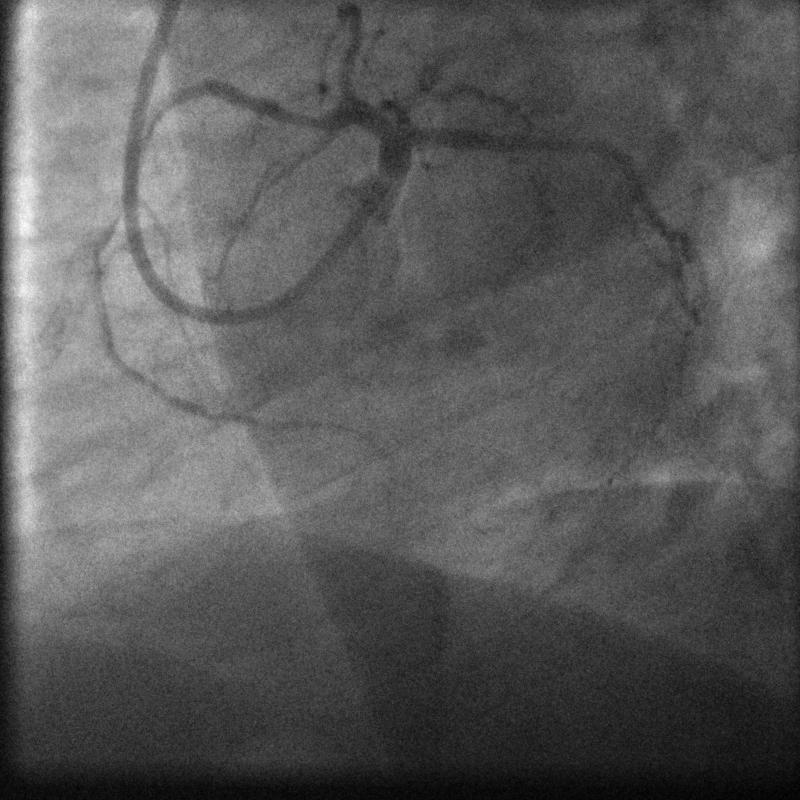Stenosis: (270, 98, 339, 143)
